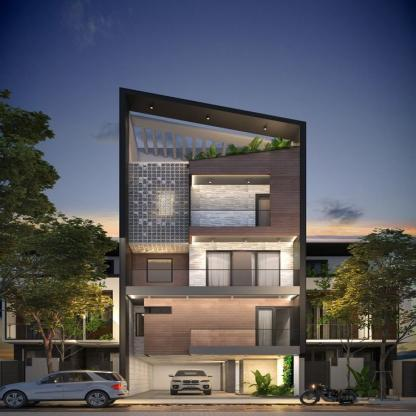Balcony: (125, 270, 299, 287), (190, 330, 299, 347), (190, 210, 300, 226)
Building Outline: (119, 87, 307, 398)
Door: (208, 251, 279, 286), (256, 306, 293, 346), (257, 194, 286, 226)
Facade: (119, 87, 306, 398)
Floor Slab: (125, 227, 301, 234), (125, 288, 301, 295), (125, 348, 301, 355)
Pillar: (226, 360, 236, 393), (221, 362, 227, 391)
Window: (147, 259, 172, 283), (144, 307, 172, 314), (136, 313, 144, 337)
